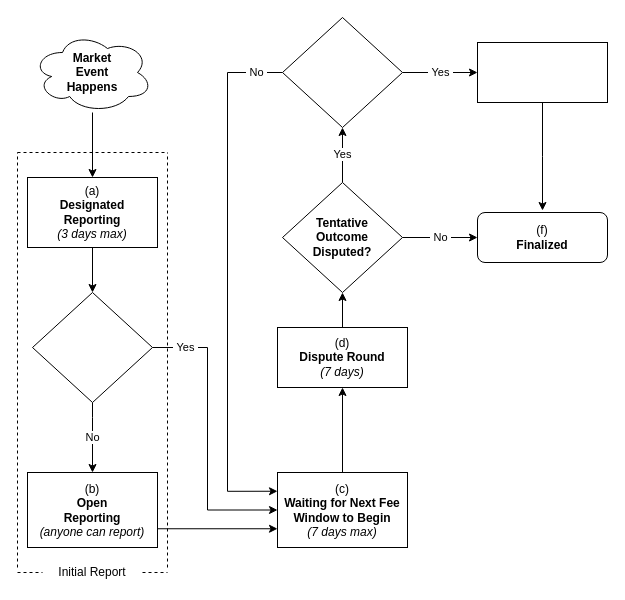
This 625x600 diagram has some shape labels left out. The shapes that lost their labels are listed below. From the top down, each one's centre as x and y in pixels, then its label:
the point at 342,72: Dispute Bond Above Fork Threshold?
the point at 542,72: (e) Fork (60 days max)
the point at 92,347: Designated Reporter Reported?
